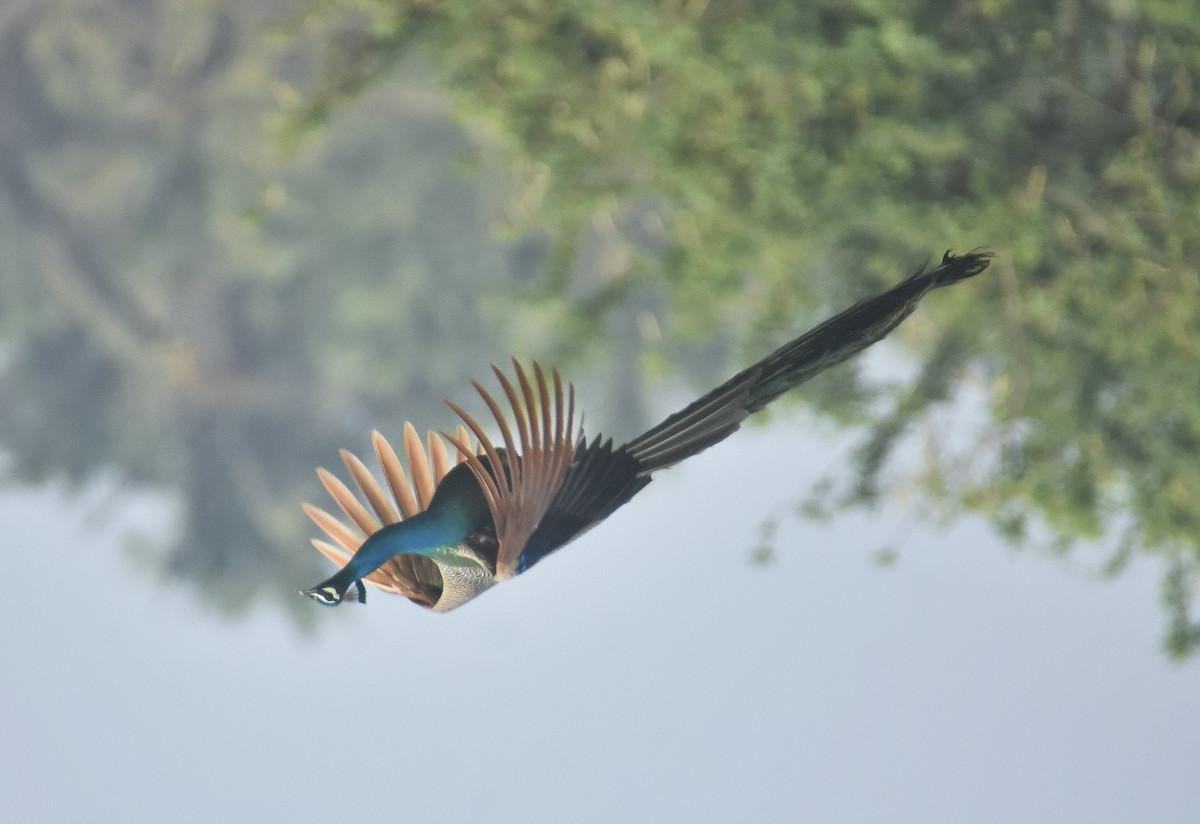peacock: (296, 214, 968, 654)
